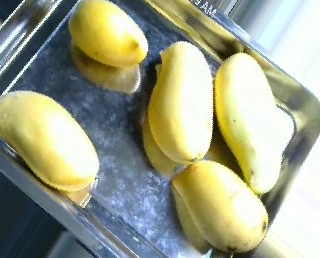Mango: (0, 90, 101, 195), (216, 49, 284, 195), (166, 160, 269, 252), (147, 40, 215, 164), (67, 0, 150, 70)
